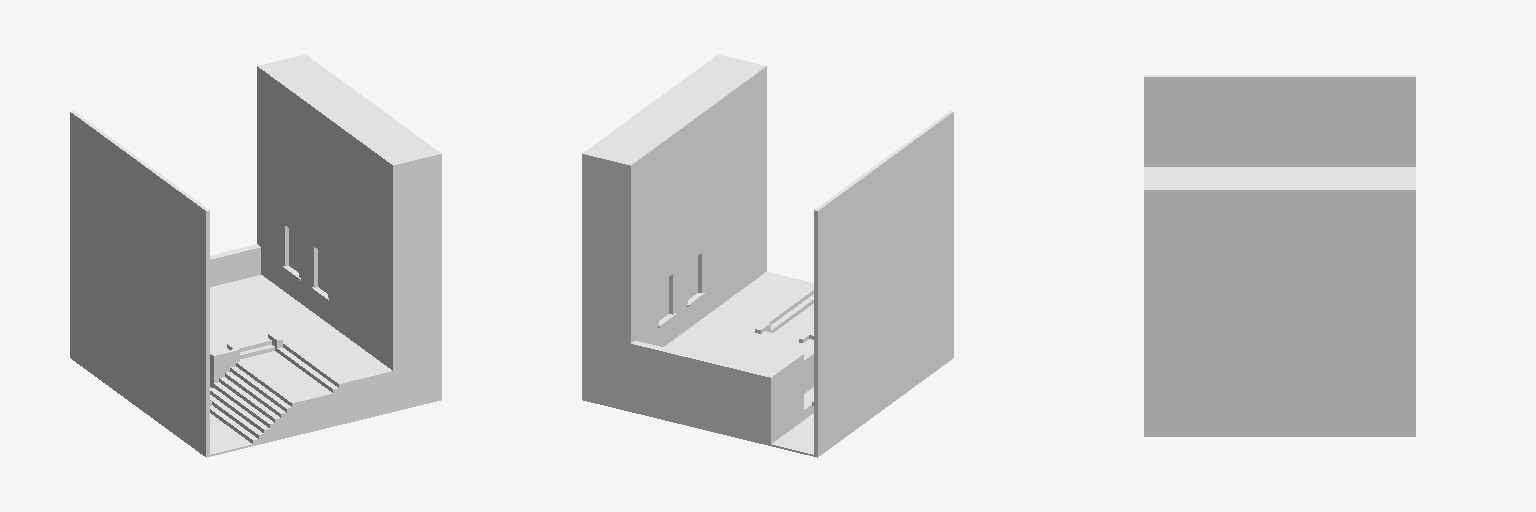
Rendered from CourtyardV01.obj.
3 renders of one model, left to right at view 1: azimuth 30°, elevation 25°; view 2: azimuth 150°, elevation 25°; view 3: azimuth 270°, elevation 25°, orthographic.
Visible parts, largest first — view 1: object 1; view 2: object 1; view 3: object 1.
Boxes of the visible parts, x1=… form: object 1: x1=70, y1=54, x2=441, y2=457; object 1: x1=582, y1=54, x2=953, y2=457; object 1: x1=1144, y1=75, x2=1415, y2=436.
Bounding box in the file's own units: 12.6 × 12.6 × 12.6.